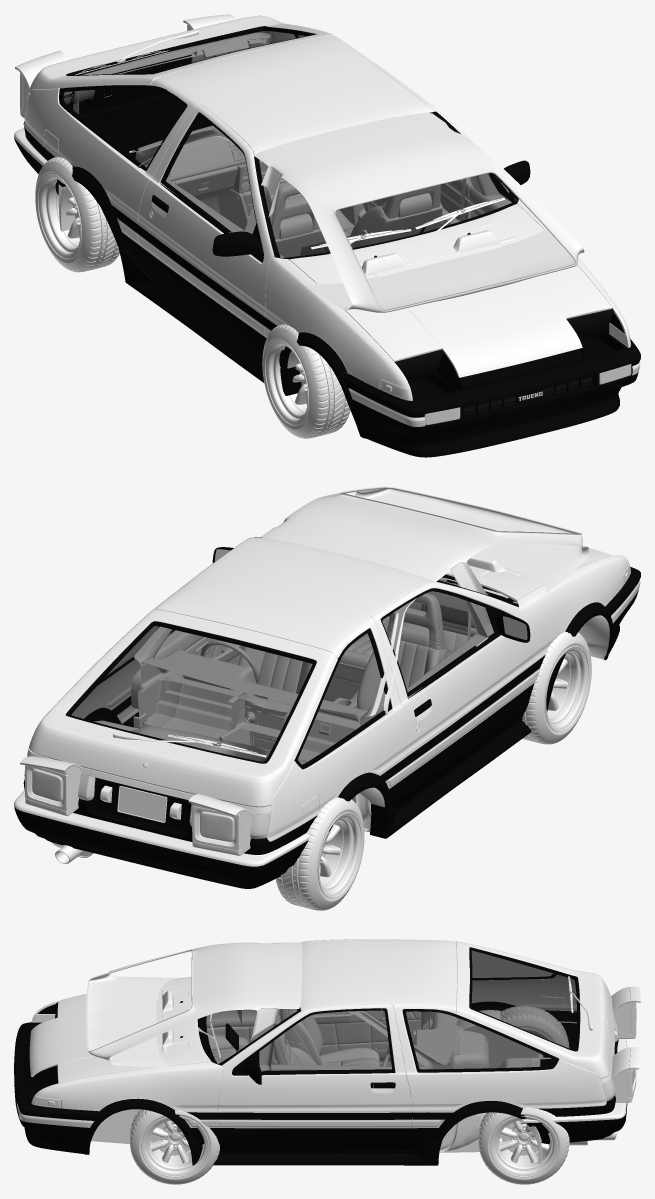
File: trueno2.glb
3 renders of one model, top to bottom at view 1: azimuth 30°, elevation 25°; view 2: azimuth 150°, elevation 25°; view 3: azimuth 270°, elevation 25°, orthographic. The views are drawn at different scales.
Visible parts, largest first — view 1: CarBody, Interior, RL_Wheel, FL_Wheel, Headlights; view 2: CarBody, Interior, FL_Wheel, Headlights, RL_Wheel; view 3: CarBody, Interior, FR_Wheel, RR_Wheel, Headlights, FL_Wheel.
Boxes of the visible parts, x1,y1,x2,y2 form: CarBody: [14, 15, 640, 457]; Interior: [129, 112, 584, 312]; RL_Wheel: [262, 324, 350, 438]; FL_Wheel: [35, 157, 119, 272]; Headlights: [15, 14, 250, 118]; CarBody: [14, 537, 640, 888]; Interior: [131, 486, 589, 830]; FL_Wheel: [275, 797, 364, 910]; Headlights: [20, 756, 254, 855]; RL_Wheel: [522, 631, 591, 744]; CarBody: [14, 939, 627, 1165]; Interior: [86, 942, 490, 1153]; FR_Wheel: [478, 1107, 569, 1184]; RR_Wheel: [130, 1109, 219, 1184]; Headlights: [611, 986, 640, 1102]; FL_Wheel: [500, 1006, 569, 1047].
Bounding box in the file's own units: 1.92 × 1.28 × 4.29.
21 materials, 1 textured.
